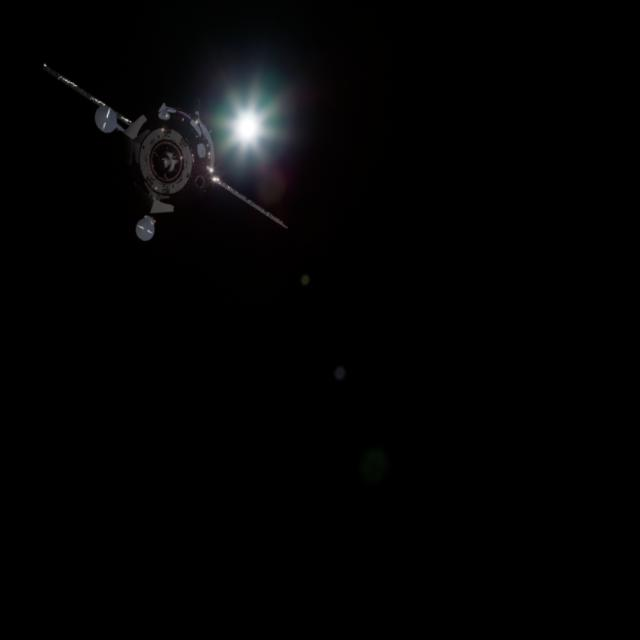Satellites revolving around earth: (15, 59, 312, 272)
